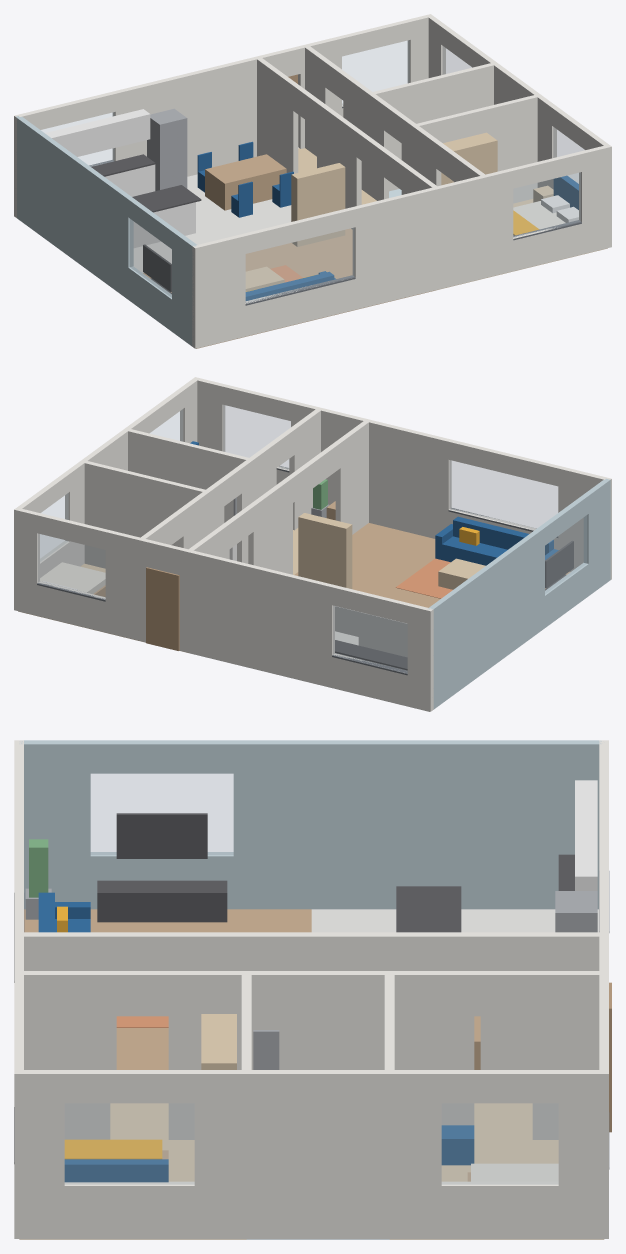
The picture shows the model from 3 angles, top to bottom: view 1: azimuth 30°, elevation 25°; view 2: azimuth 150°, elevation 25°; view 3: azimuth 270°, elevation 25°; orthographic projection. The views are drawn at different scales.
Parts seen in each view (by area): view 1: 2-bedroom apartment; view 2: 2-bedroom apartment; view 3: 2-bedroom apartment.
Boxes of the visible parts, box(x1,y1,x2,y2) form: 2-bedroom apartment: box(14, 14, 611, 348); 2-bedroom apartment: box(14, 377, 611, 711); 2-bedroom apartment: box(14, 740, 611, 1239).
Bounding box in the file's own units: 12.15 × 2.85 × 9.2.
